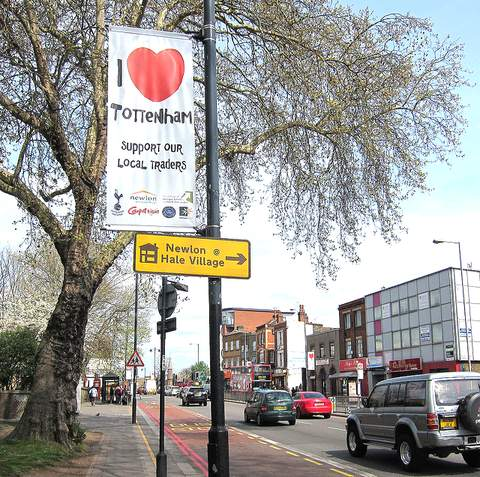Bus: (230, 364, 272, 392)
car: (342, 373, 479, 470), (242, 390, 297, 426), (290, 391, 333, 420), (182, 387, 207, 406)
truck: (346, 372, 479, 474)
